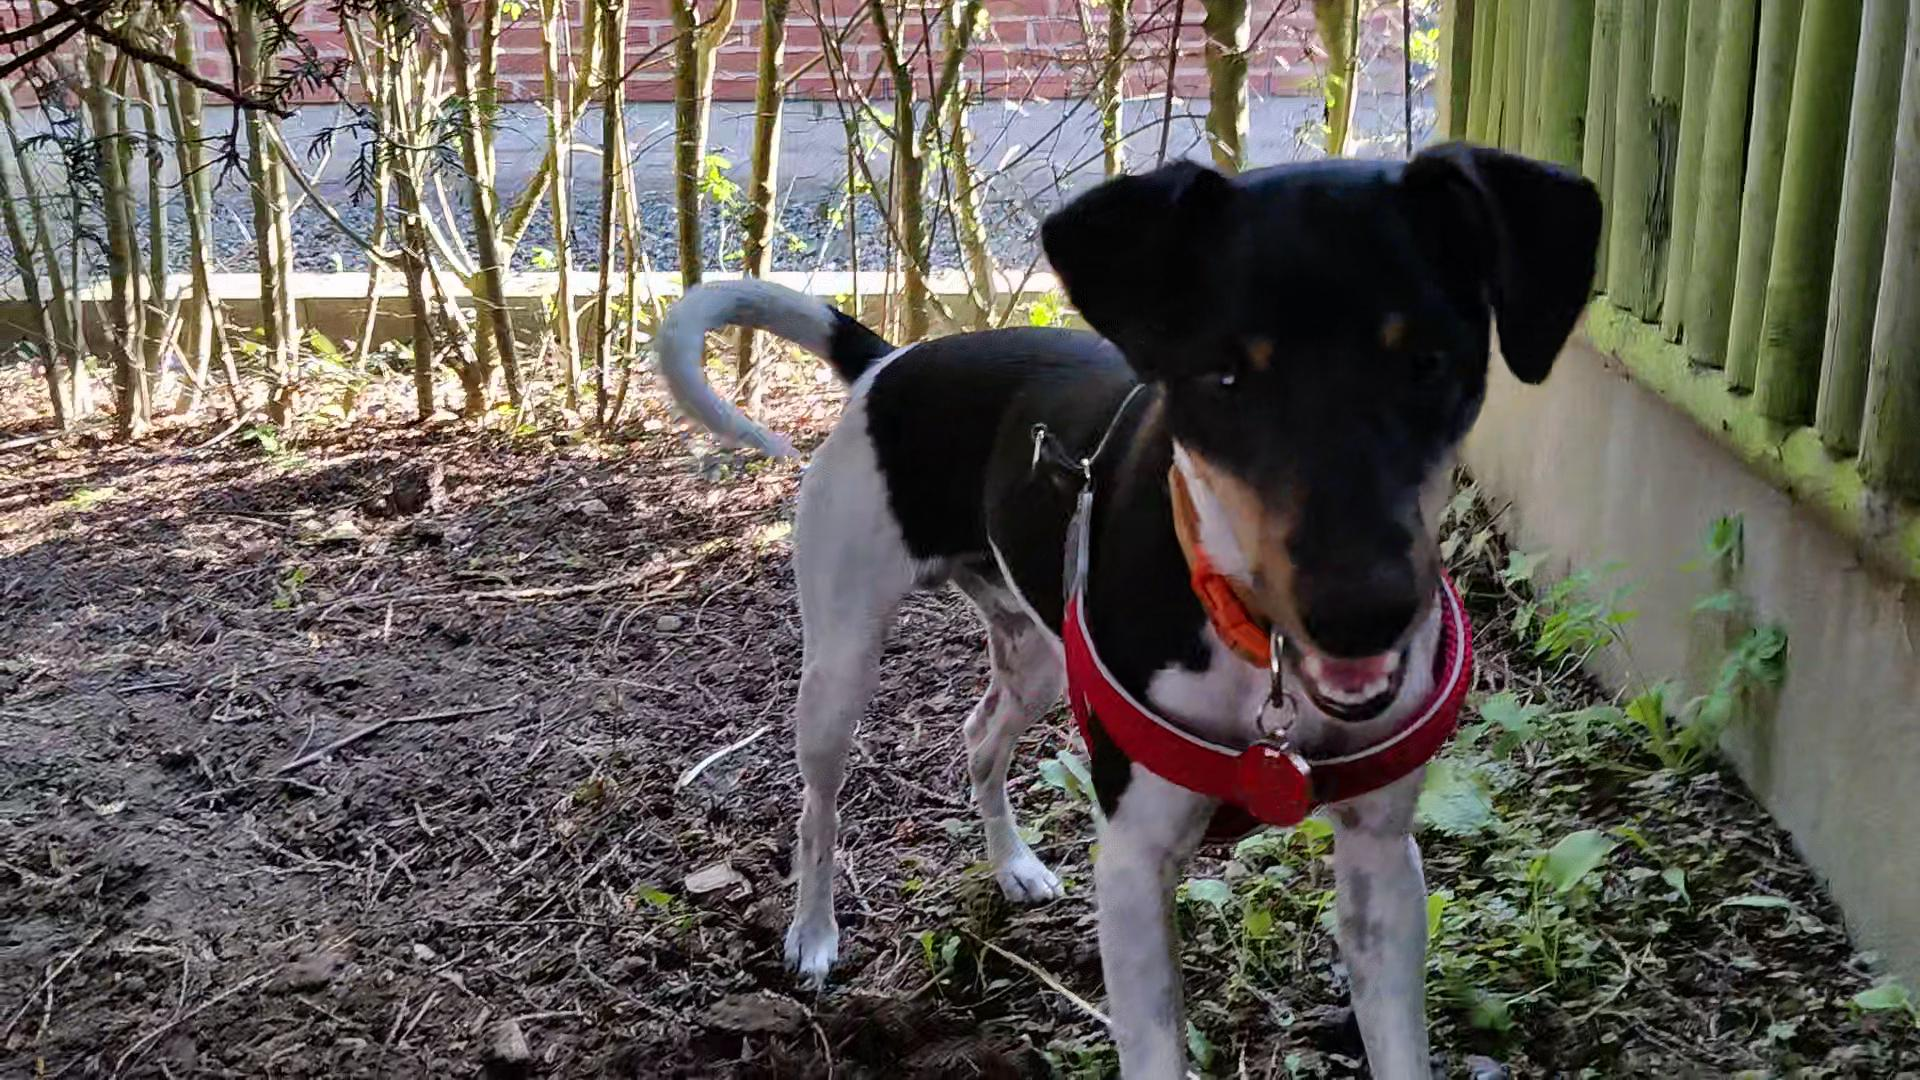Dog: (649, 100, 1607, 1079)
